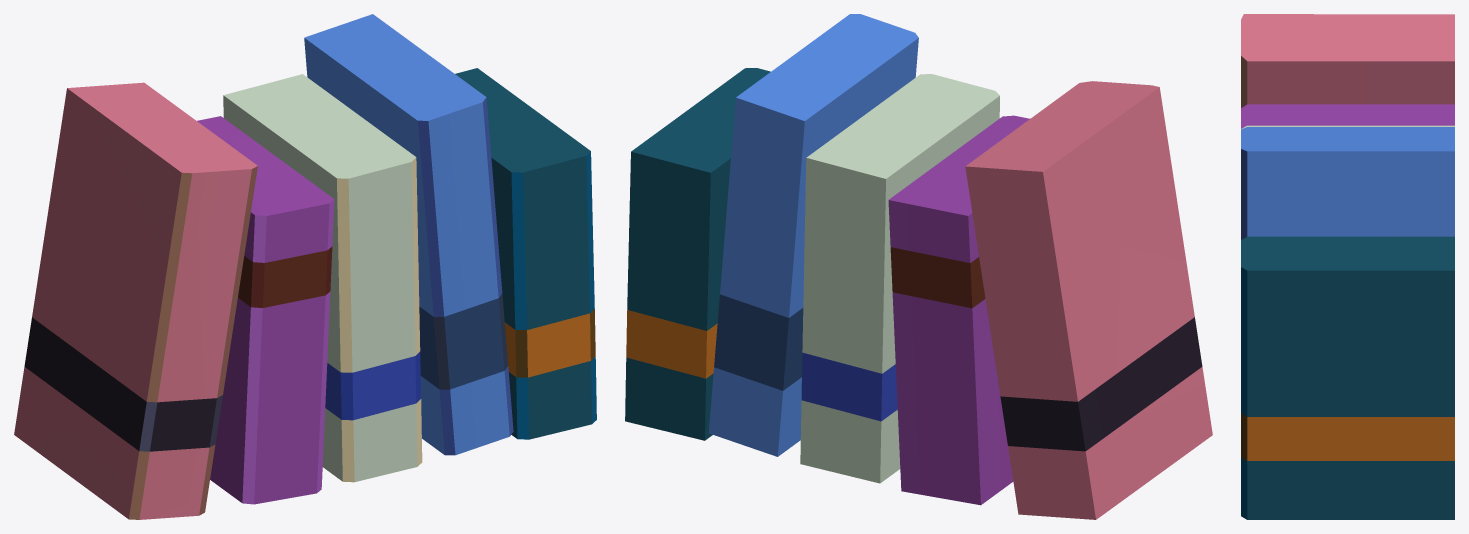
Rendered from Books_2025_2.fbx.
3 renders of one model, left to right at view 1: azimuth 30°, elevation 25°; view 2: azimuth 150°, elevation 25°; view 3: azimuth 270°, elevation 25°, orthographic. The views are drawn at different scales.
Parts seen in each view (by area): view 1: Books; view 2: Books; view 3: Books.
Part boxes in pixels (left/top/right/bottom): Books: left=14, top=14, right=596, bottom=519; Books: left=625, top=14, right=1212, bottom=519; Books: left=1241, top=14, right=1454, bottom=519.
Bounding box in the file's own units: 0.6111 × 0.4382 × 0.2636.
